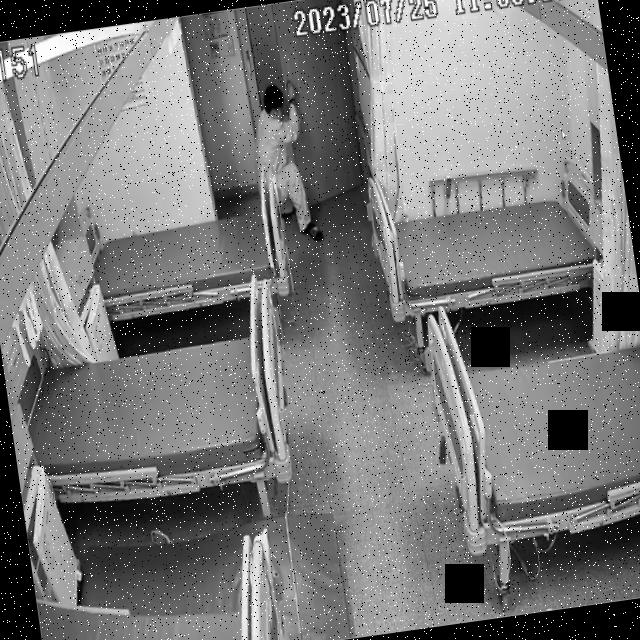bed: (419, 279, 640, 552), (17, 324, 299, 512), (366, 173, 614, 323), (89, 198, 290, 320)
danger: (246, 76, 325, 247)
patient: (244, 75, 325, 246)
